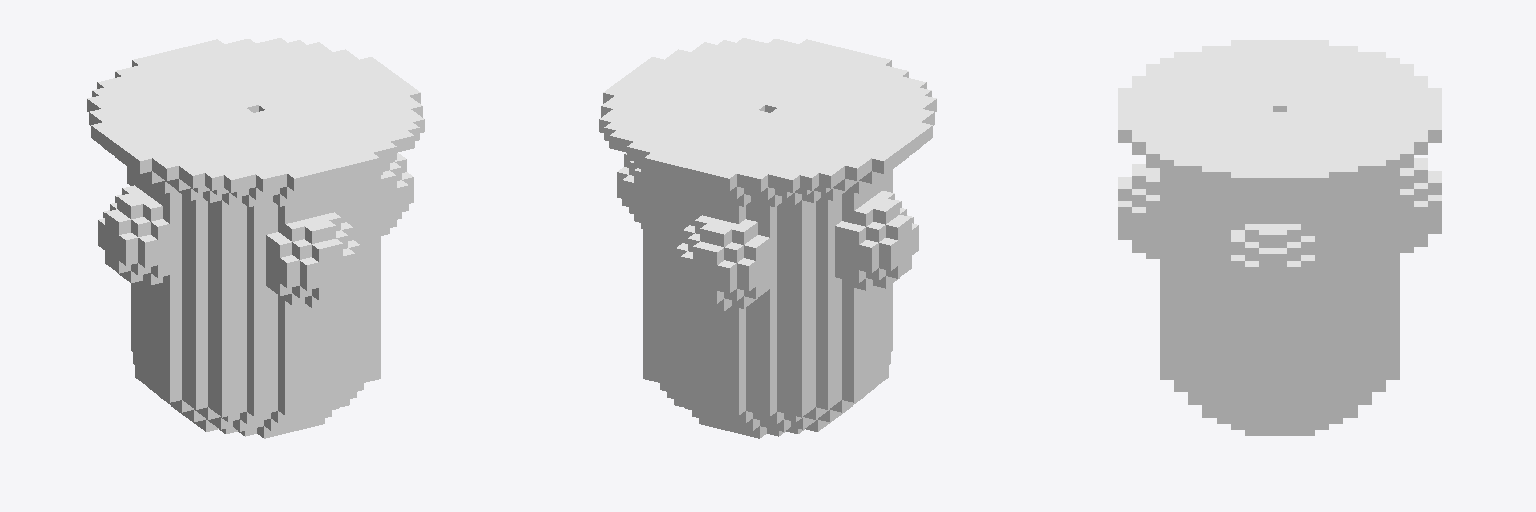
The model's file is decorative.obj.
3 views of the same model, side by side, from view 1: azimuth 30°, elevation 25°; view 2: azimuth 150°, elevation 25°; view 3: azimuth 270°, elevation 25° (orthographic).
Size of the model in its own units: 23 by 23 by 23.